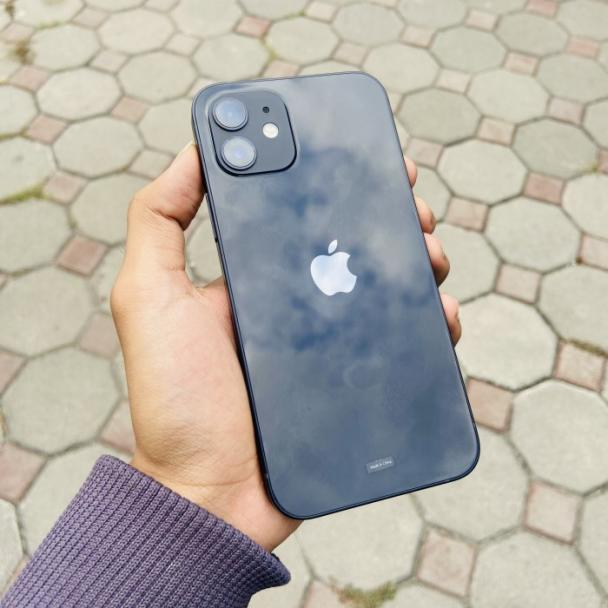Handphone: (184, 64, 495, 528)
